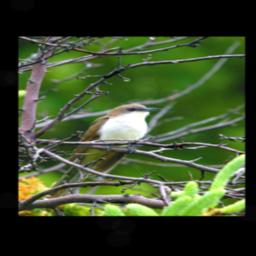Cuckoo: (42, 102, 157, 201)
